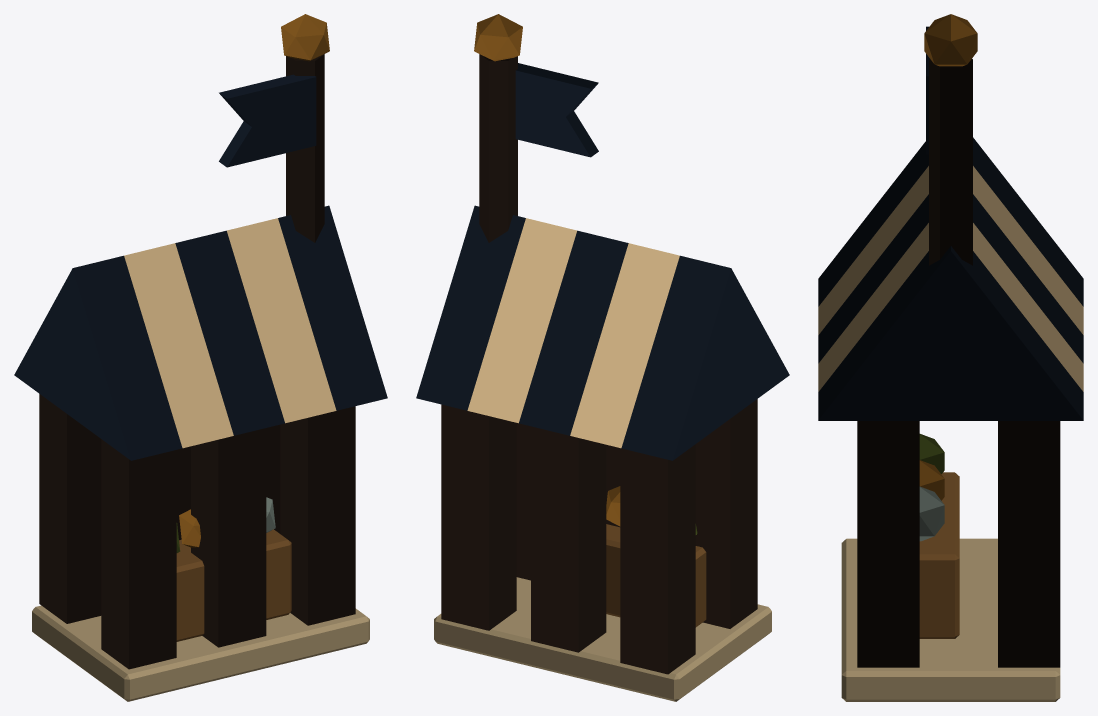
The model's file is market.obj.
The picture shows the model from 3 angles, left to right: view 1: azimuth 30°, elevation 25°; view 2: azimuth 150°, elevation 25°; view 3: azimuth 270°, elevation 25°; orthographic projection. The views are drawn at different scales.
Visible parts, largest first — view 1: core_wood_dark, core_team, core_white, core_stone, core_plank, core_gold; view 2: core_wood_dark, core_team, core_white, core_stone, core_gold, core_plank; view 3: core_team, core_wood_dark, core_stone, core_white, core_plank, core_gold, core_fish, core_crop.
Part boxes in pixels (x1,y1,x2,y2): core_wood_dark: (39, 54, 355, 669); core_team: (14, 74, 387, 460); core_white: (124, 218, 336, 448); core_stone: (32, 605, 369, 701); core_plank: (176, 529, 291, 641); core_gold: (179, 14, 329, 547); core_wood_dark: (441, 54, 757, 674); core_team: (416, 63, 789, 460); core_white: (467, 218, 679, 448); core_stone: (434, 577, 771, 701); core_gold: (474, 14, 620, 526); core_plank: (606, 524, 706, 627); core_team: (818, 26, 1083, 420); core_wood_dark: (857, 59, 1060, 667); core_stone: (841, 538, 1060, 701); core_white: (818, 166, 1083, 391); core_plank: (919, 472, 959, 638); core_gold: (919, 14, 977, 500); core_fish: (919, 486, 944, 541); core_crop: (919, 434, 944, 473).
Bounding box in the file's own units: 0.215 × 0.48 × 0.17.
